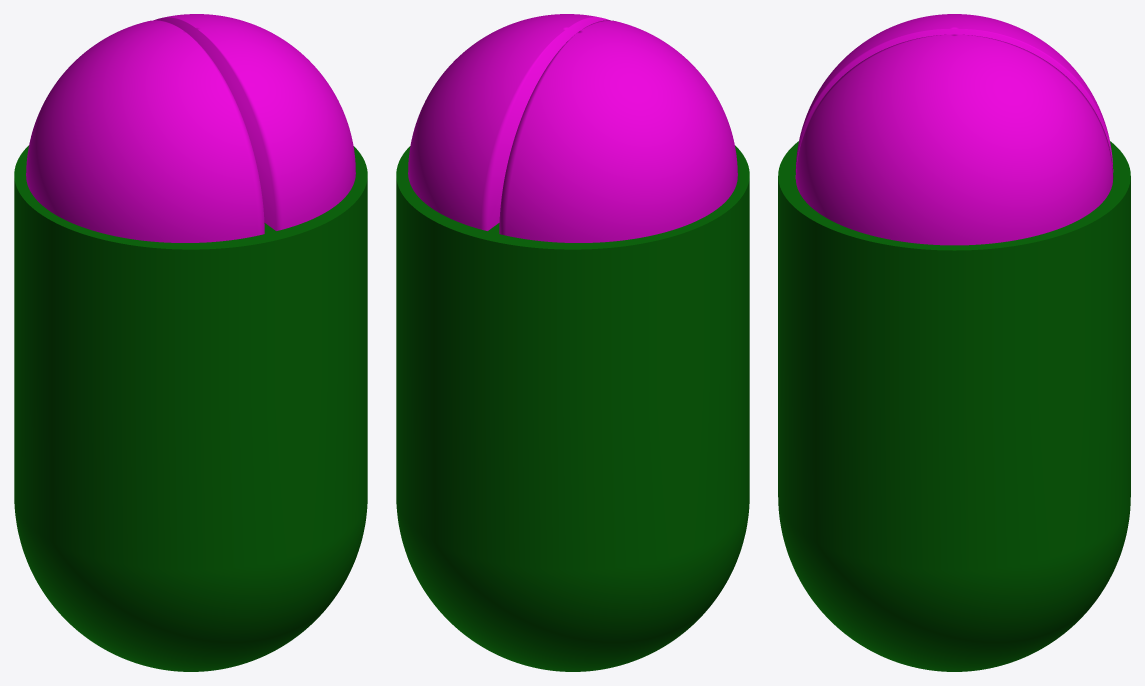
The model's file is zombie2.fbx.
The picture shows the model from 3 angles, left to right: view 1: azimuth 30°, elevation 25°; view 2: azimuth 150°, elevation 25°; view 3: azimuth 270°, elevation 25°; orthographic projection.
Visible parts, largest first — view 1: Bean, Brain; view 2: Bean, Brain; view 3: Bean, Brain.
Part boxes in pixels (x1,y1,x2,y2): Bean: (14, 145, 367, 671); Brain: (26, 14, 355, 242); Bean: (396, 145, 749, 671); Brain: (408, 14, 737, 242); Bean: (778, 141, 1130, 671); Brain: (795, 14, 1113, 245).
Size of the model in its own units: 200 by 390 by 200.
